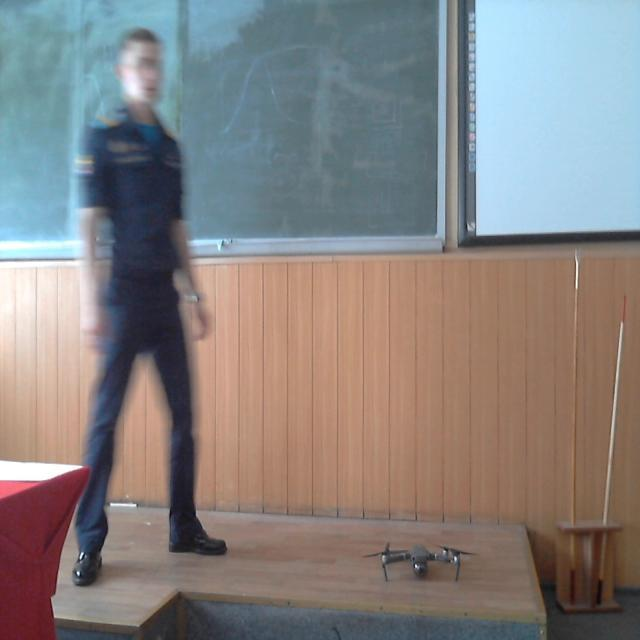drones: (347, 508, 482, 602)
